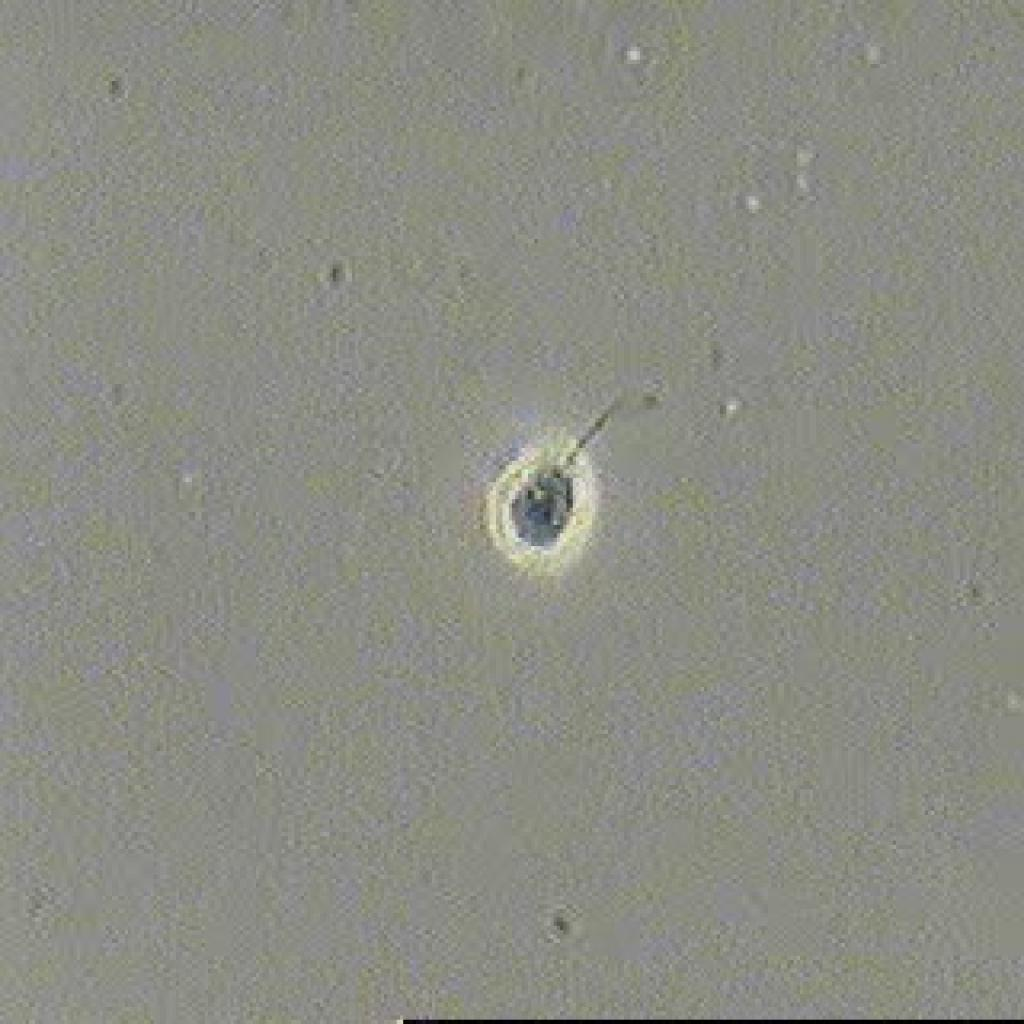Flagellates: (456, 382, 690, 587)
